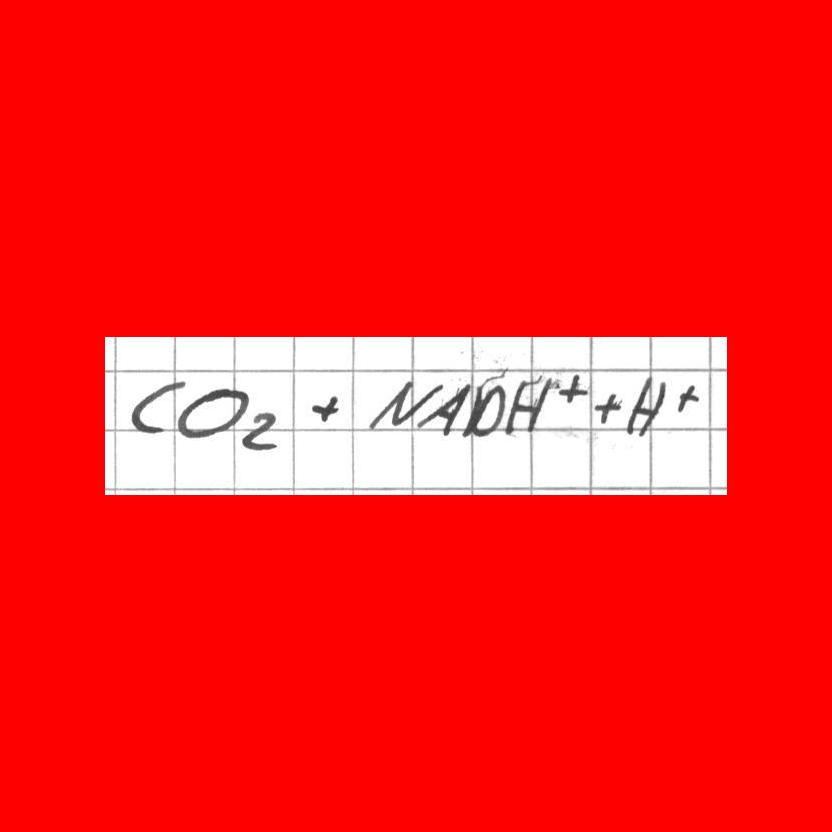Char: (365, 378, 441, 431), (175, 386, 250, 439), (417, 381, 470, 435), (130, 378, 180, 435), (508, 376, 550, 435), (626, 377, 665, 437), (463, 376, 502, 436), (241, 407, 278, 452), (309, 390, 341, 425), (592, 390, 619, 426), (560, 371, 585, 407), (674, 380, 697, 414)
